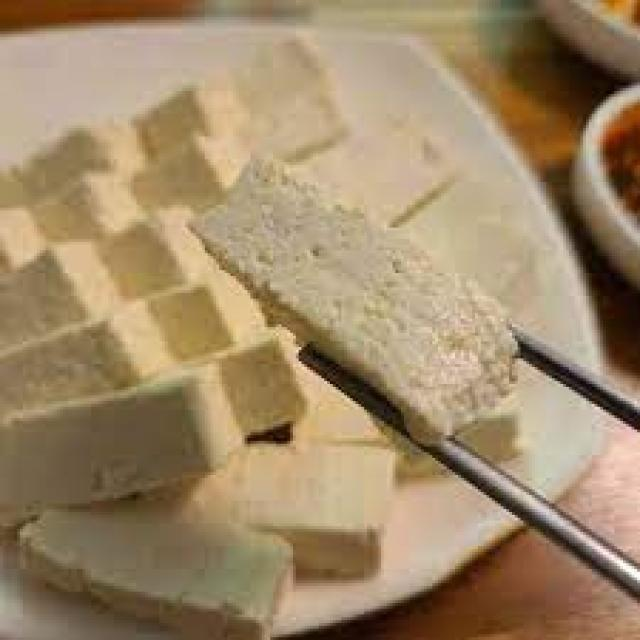tofu: (3, 31, 426, 589), (181, 144, 540, 438)
